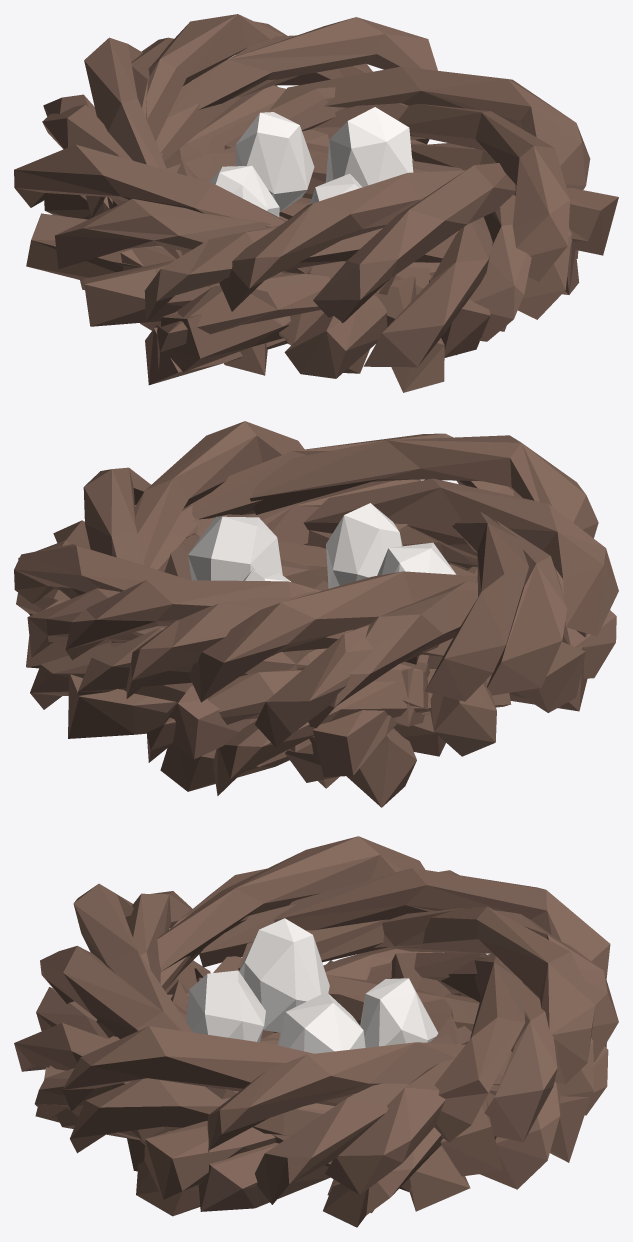
Rendered from Nest_22.fbx.
The picture shows the model from 3 angles, top to bottom: view 1: azimuth 30°, elevation 25°; view 2: azimuth 150°, elevation 25°; view 3: azimuth 270°, elevation 25°; orthographic projection. The views are drawn at different scales.
Visible parts, largest first — view 1: Nest_22_LOD0; view 2: Nest_22_LOD0; view 3: Nest_22_LOD0.
Part boxes in pixels (bbox=[...]): Nest_22_LOD0: bbox=[14, 14, 618, 392]; Nest_22_LOD0: bbox=[14, 421, 618, 807]; Nest_22_LOD0: bbox=[14, 836, 618, 1227].
Size of what is drawn, in the model's own units: 39.89 by 15.87 by 40.53.
